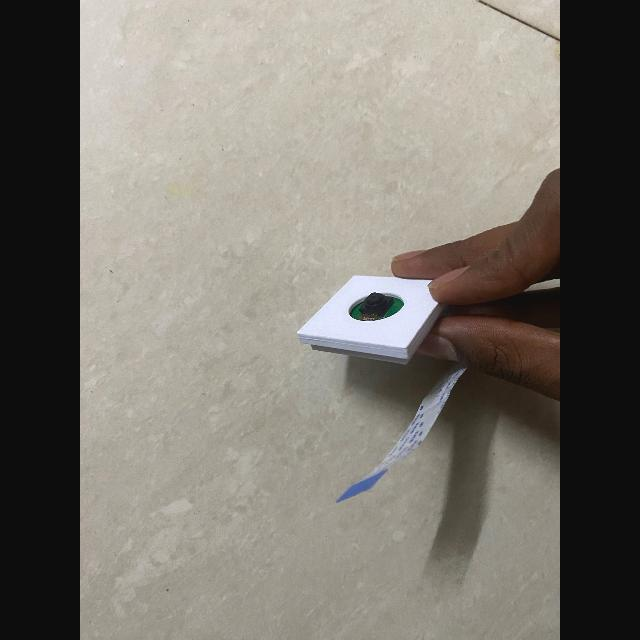RASPBERY PI CAM ENCLOSURE: (296, 276, 444, 364)
